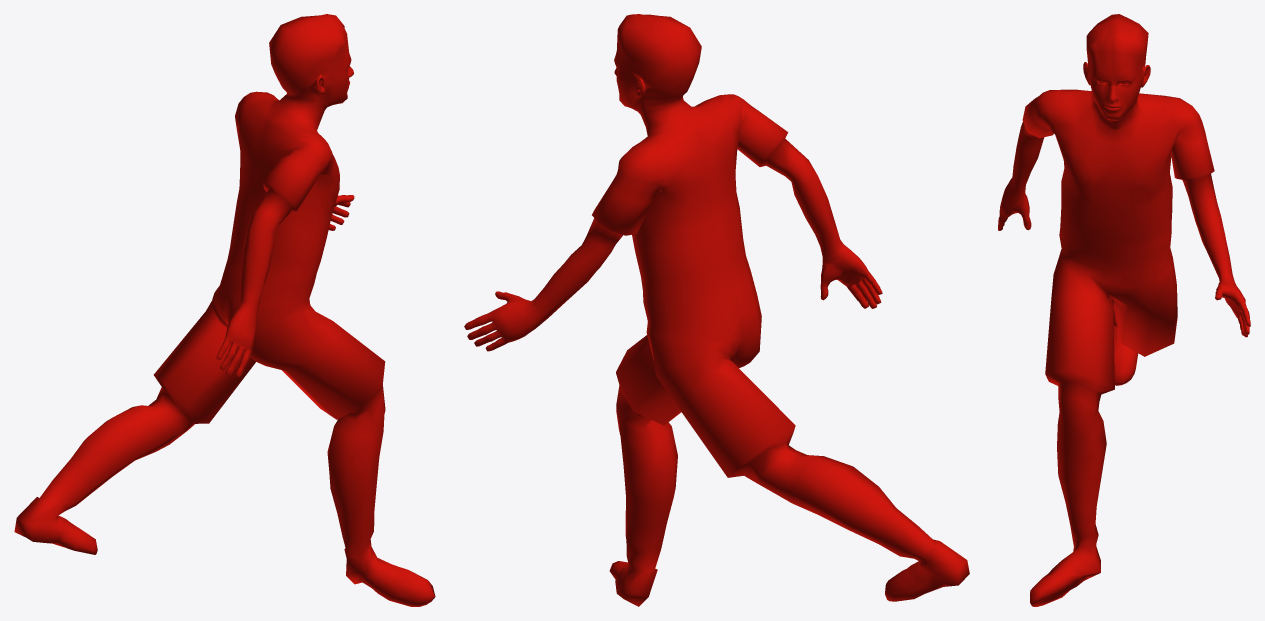
The model's file is player_000037.obj.
3 renders of one model, left to right at view 1: azimuth 30°, elevation 25°; view 2: azimuth 150°, elevation 25°; view 3: azimuth 270°, elevation 25°, orthographic. The views are drawn at different scales.
Visible parts, largest first — view 1: soccerplayer.002_mesh.003; view 2: soccerplayer.002_mesh.003; view 3: soccerplayer.002_mesh.003.
Part boxes in pixels (x1=…): soccerplayer.002_mesh.003: x1=14, y1=14, x2=435, y2=606; soccerplayer.002_mesh.003: x1=464, y1=14, x2=969, y2=606; soccerplayer.002_mesh.003: x1=998, y1=14, x2=1250, y2=606.
Size of the model in its own units: 2.04 by 2.83 by 1.17.
